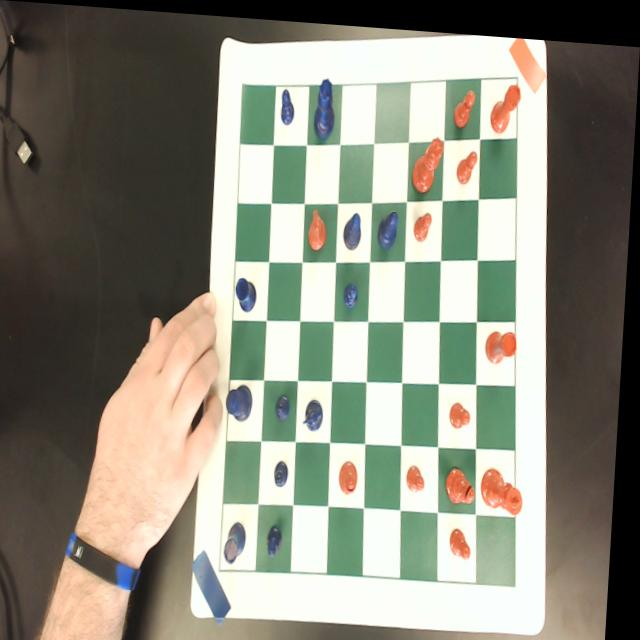B: (379, 204, 401, 245), (345, 206, 365, 247)
K: (230, 379, 258, 419)
N: (306, 391, 329, 429)
P: (273, 521, 290, 555), (281, 85, 296, 121), (279, 455, 295, 484), (280, 389, 295, 418), (346, 276, 362, 303)
Q: (315, 72, 338, 135)
R: (231, 516, 253, 562), (237, 273, 261, 309)
b: (450, 458, 482, 498), (344, 455, 364, 488)
cb: (226, 70, 522, 578)
k: (485, 460, 529, 508)
n: (310, 204, 330, 246)
p: (454, 82, 477, 123), (455, 519, 479, 554), (457, 142, 480, 178), (410, 456, 432, 489), (453, 393, 476, 422), (415, 204, 435, 236)
q: (413, 128, 446, 188)
r: (491, 73, 522, 127), (489, 321, 520, 357)
